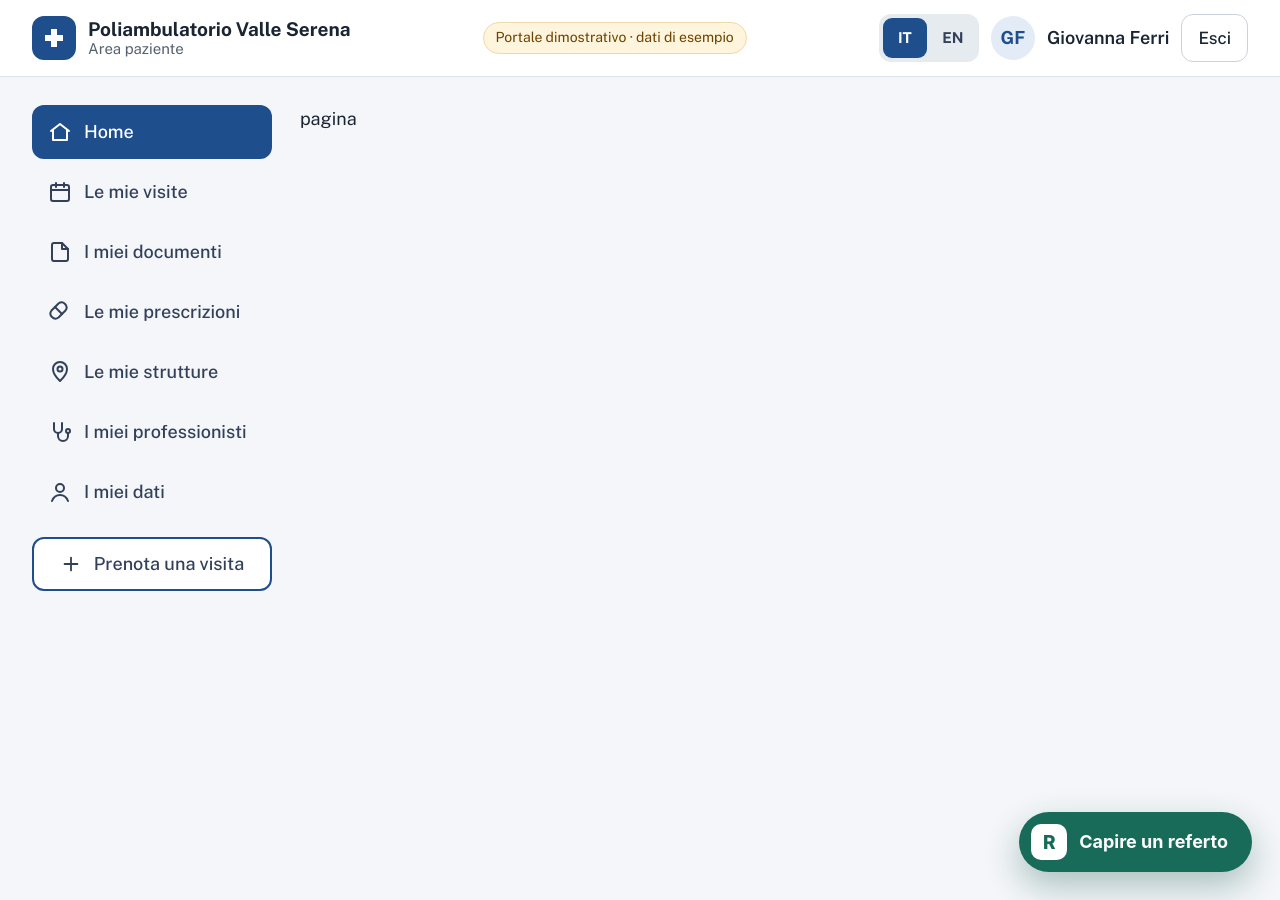
Test case: SelettoreLingua › con EN il menu passa all'inglese, con IT torna all'italiano
Expected: the link "Le mie visite" is shown, x1=48 y1=180 x2=188 y2=204
What coordinates should you click on to do the following:
click the button with aria-label "English"
I would click on:
 (953, 38)
Its box is x1=931 y1=18 x2=975 y2=58.
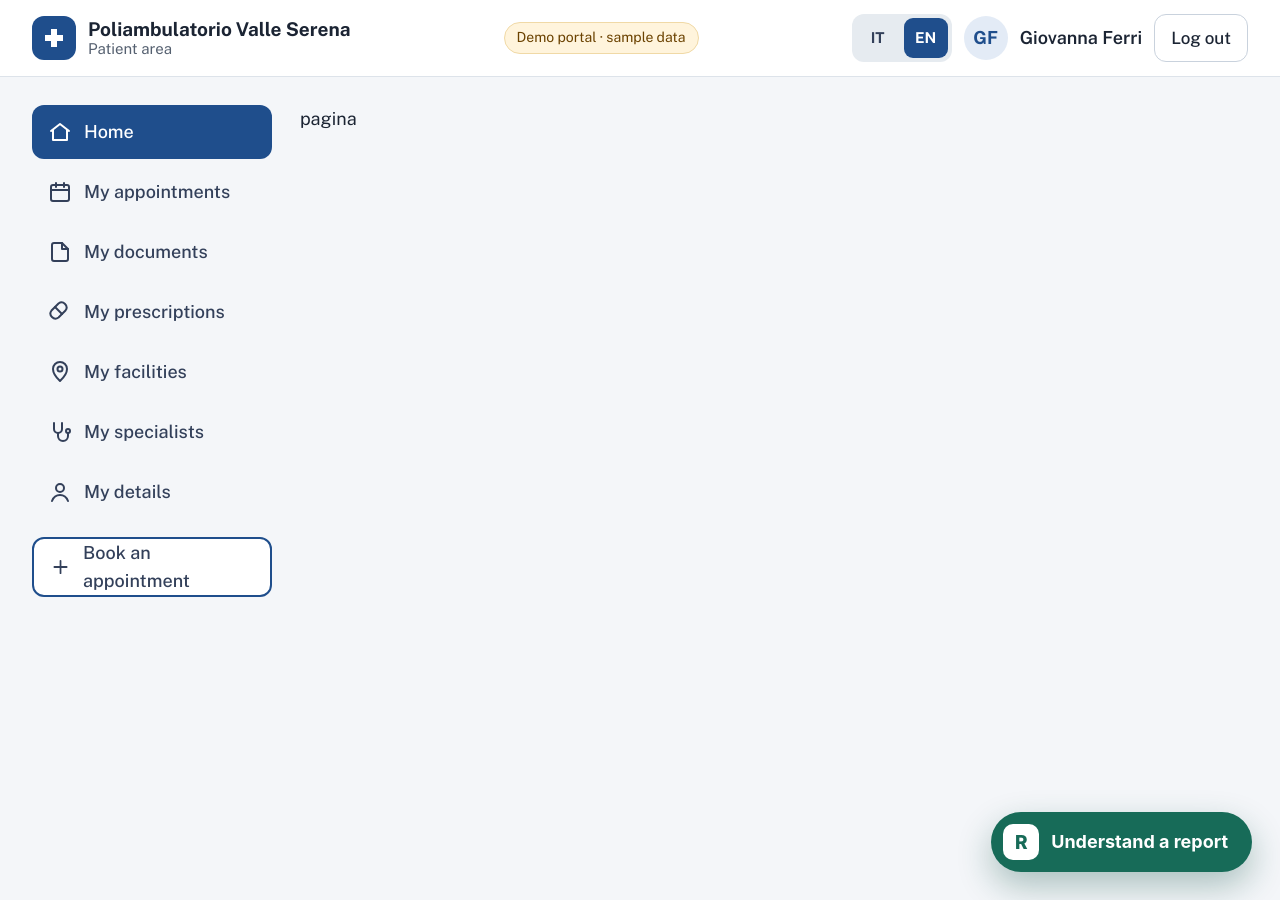
Now the link "My appointments" is shown, box x1=48 y1=180 x2=230 y2=204
Now no links "Le mie visite" are shown
Now the element named "Language" is shown, box x1=852 y1=14 x2=952 y2=62
What coordinates should you click on to do the following:
click the button with aria-label "Italiano"
I would click on:
 (878, 38)
Its box is x1=856 y1=18 x2=900 y2=58.
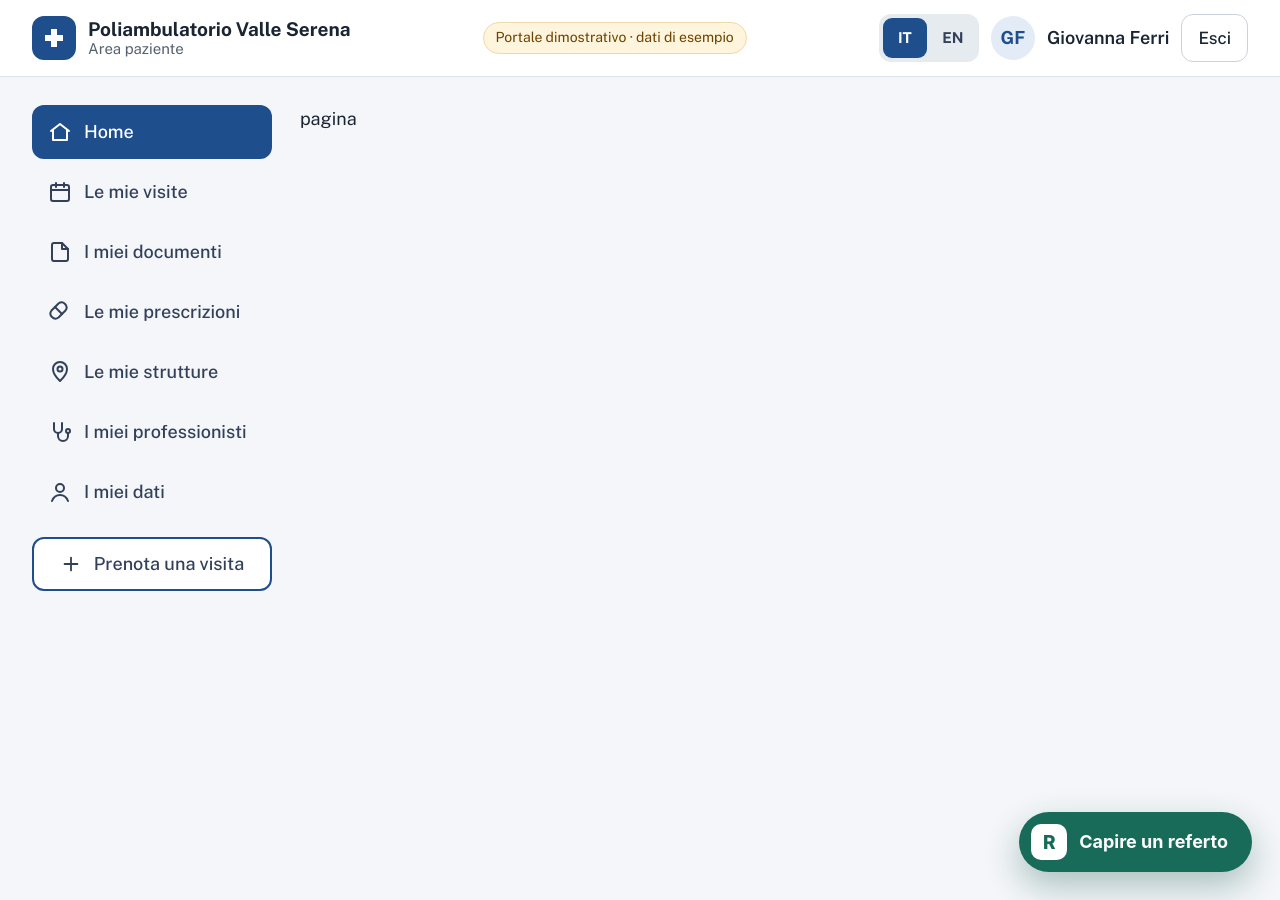
Now the link "Le mie visite" is shown, box x1=48 y1=180 x2=188 y2=204
